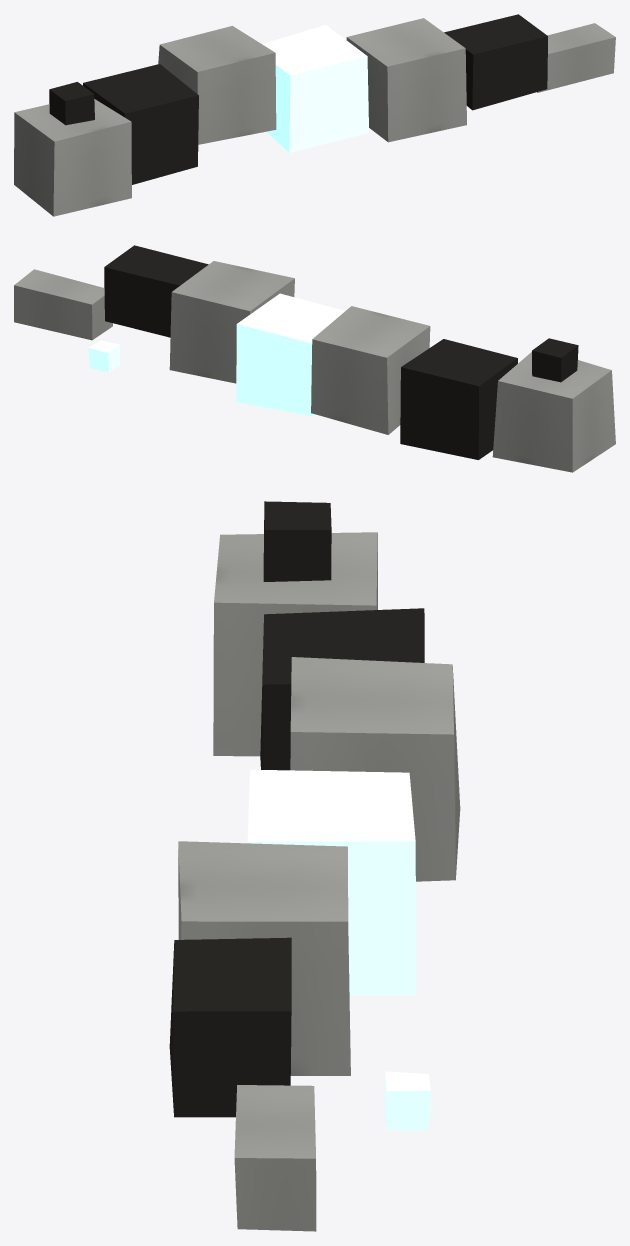
Rendered from needle_glitch.glb.
3 views of the same model, one above another, from view 1: azimuth 30°, elevation 25°; view 2: azimuth 150°, elevation 25°; view 3: azimuth 270°, elevation 25° (orthographic). The views are drawn at different scales.
Visible parts, largest first — view 1: NeedleGlitch; view 2: NeedleGlitch; view 3: NeedleGlitch.
Part boxes in pixels (x1,y1,x2,y2): NeedleGlitch: (14,14,615,216); NeedleGlitch: (14,245,615,472); NeedleGlitch: (169,501,460,1231).
Bounding box in the file's own units: 0.334 × 0.0573 × 0.0741.
3 materials, 1 textured.
